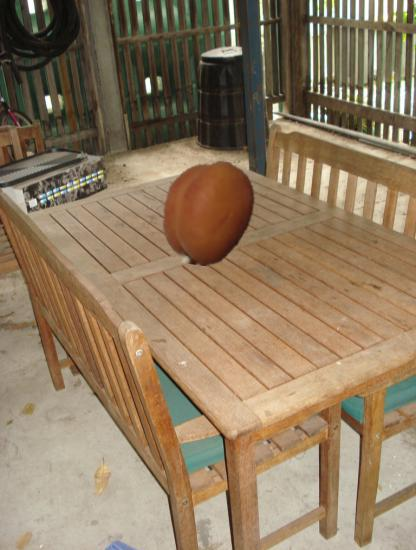Apricot: (155, 160, 261, 266)
